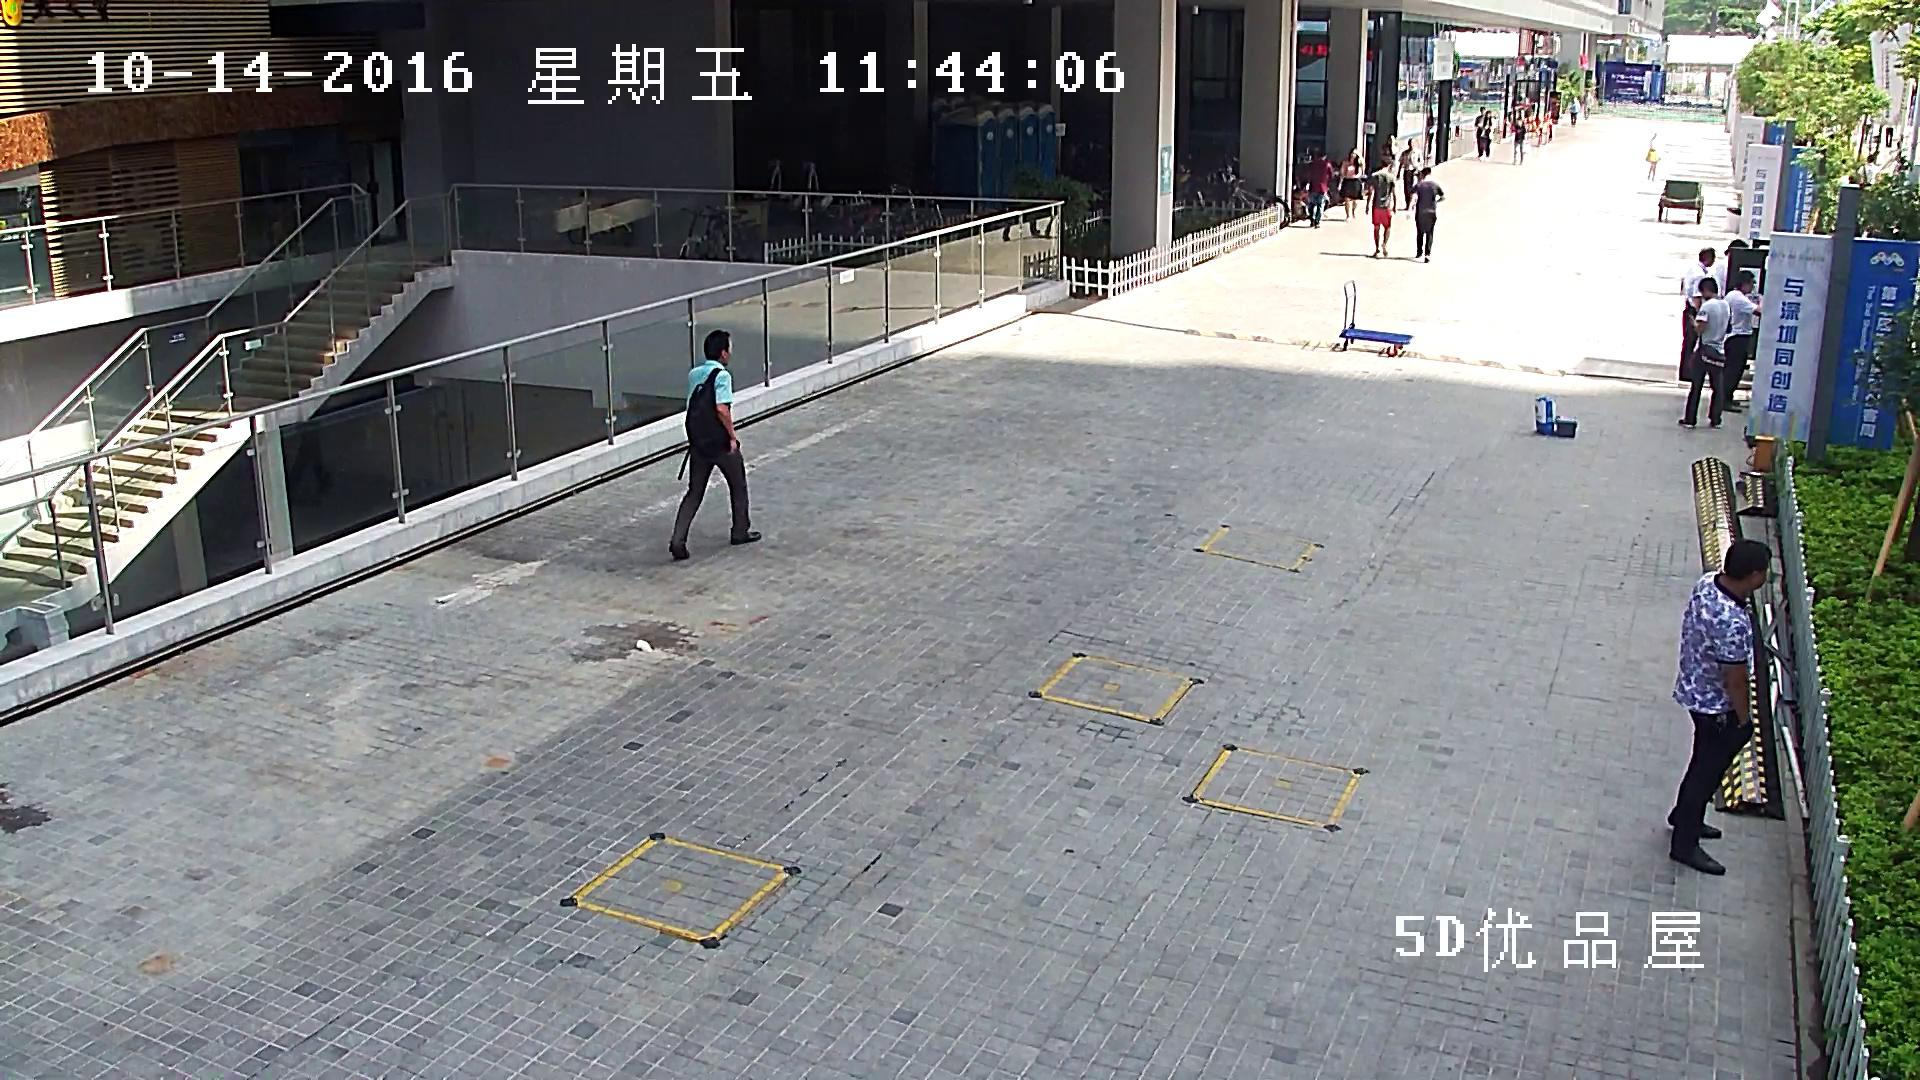person: (1666, 538, 1773, 873), (667, 329, 762, 561), (1676, 275, 1732, 429), (1721, 269, 1761, 414), (1677, 246, 1716, 382), (1409, 166, 1445, 263), (1365, 158, 1397, 258), (1304, 150, 1333, 229), (1337, 147, 1367, 222), (1397, 137, 1421, 210), (1474, 106, 1493, 158), (1645, 128, 1661, 182), (1512, 117, 1525, 165), (1567, 96, 1581, 126)
